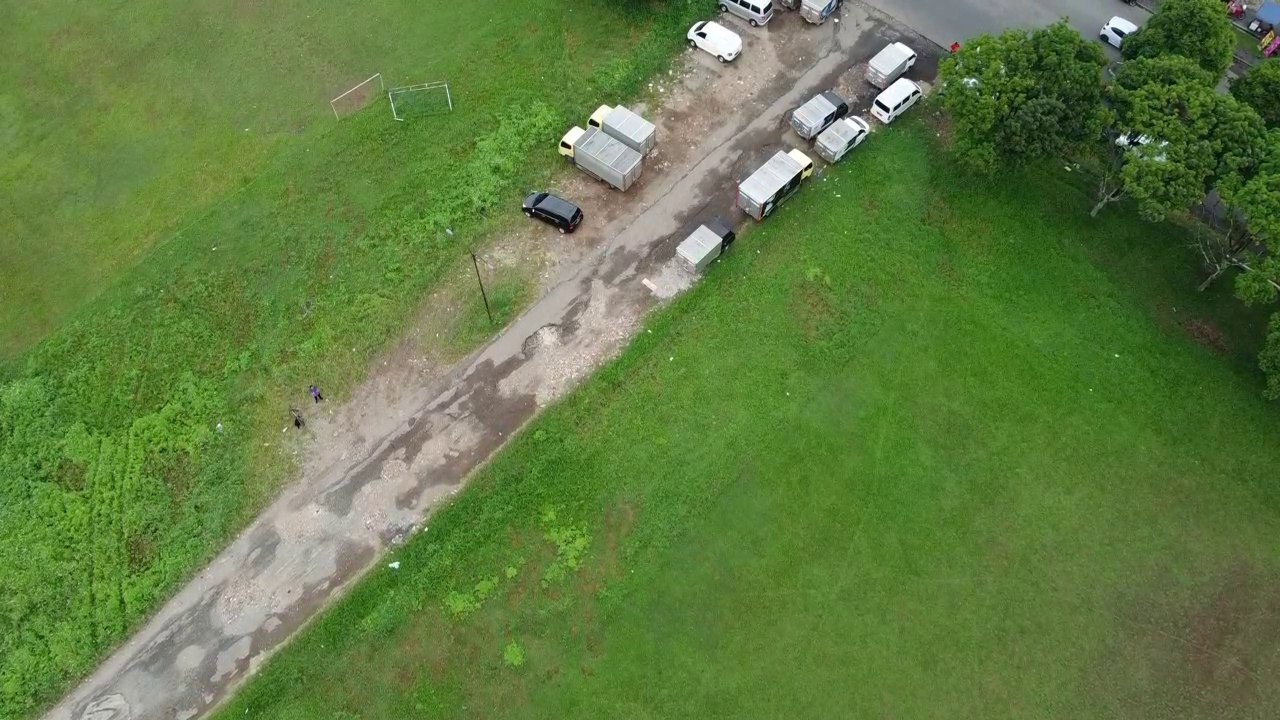mobil: (683, 15, 749, 70), (866, 68, 926, 126), (520, 188, 586, 236)
